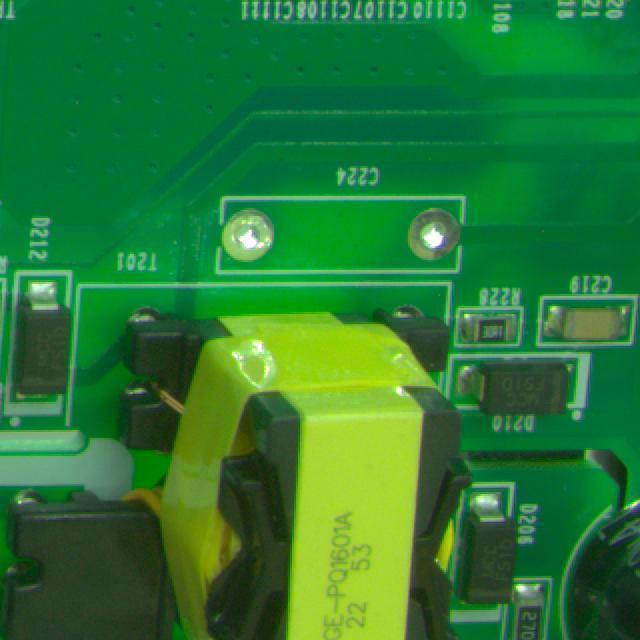Insufficient solder: (400, 207, 468, 265), (222, 207, 278, 270)
